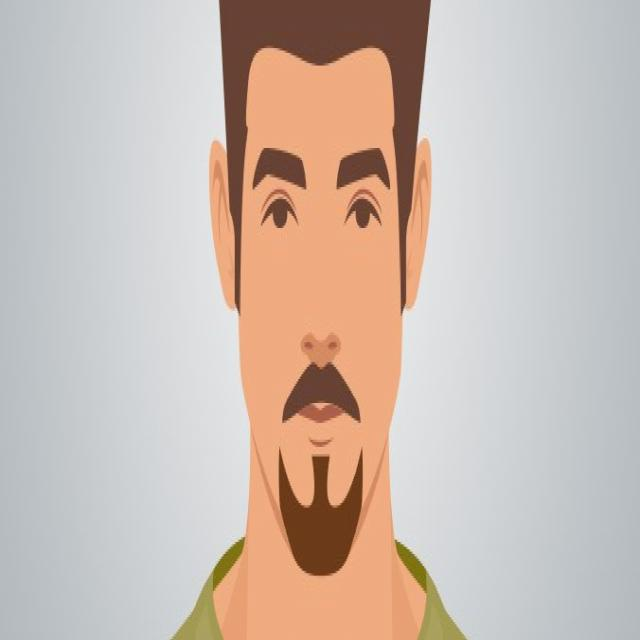beard: (279, 446, 363, 575), (283, 361, 361, 466)
